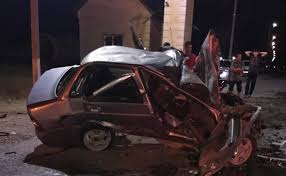car: (25, 41, 257, 158)
